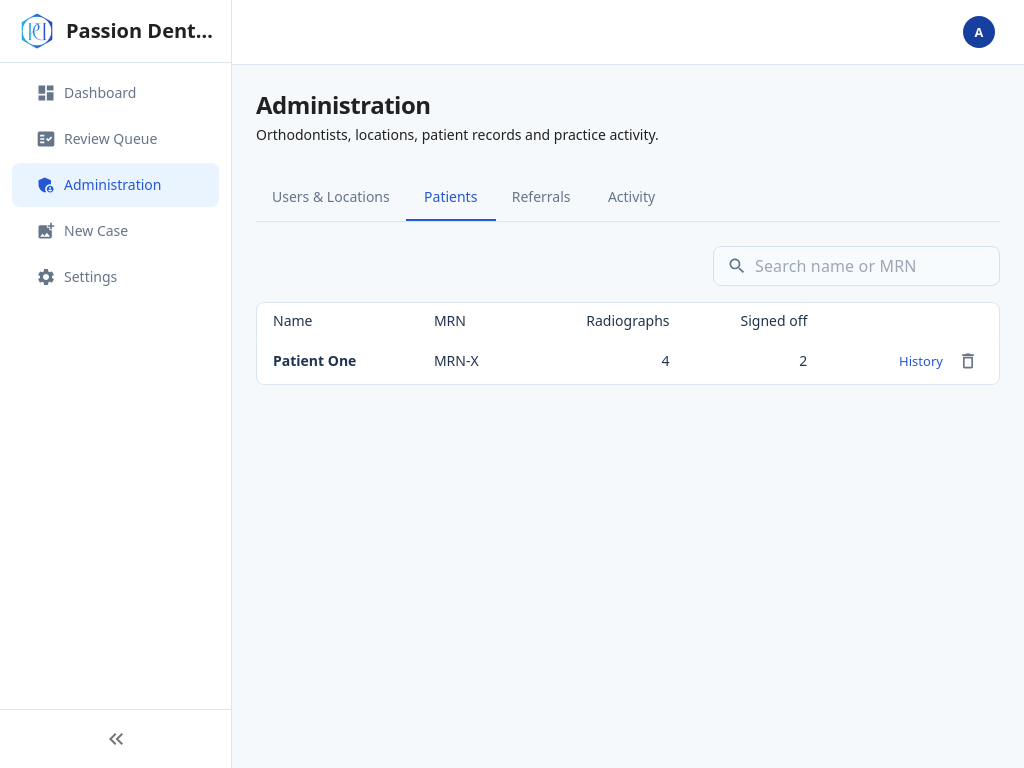
Test: PatientsPage delete › names how much will be destroyed
Check: the text "Patient One" is shown, box [257, 340, 418, 383]
What coordinates should you click on to do the following:
click the button named "delete"
I would click on:
 (968, 361)
Its box is [953, 346, 983, 376].
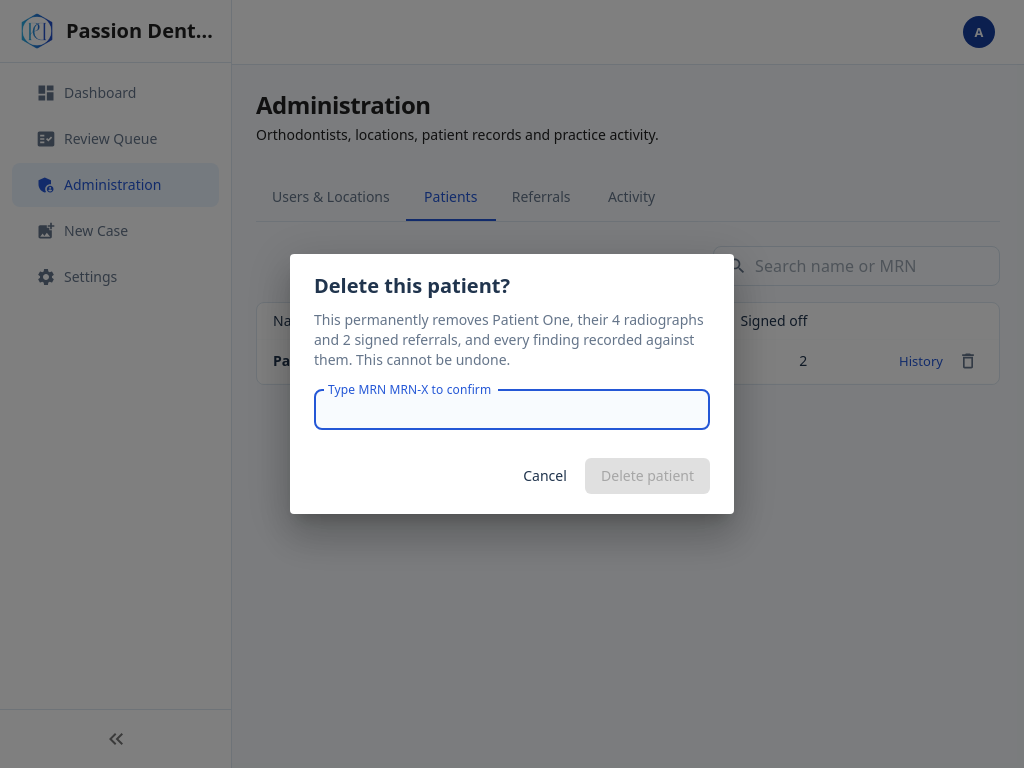
Check: the text "4 radiograph" is shown, box [314, 310, 704, 369]
